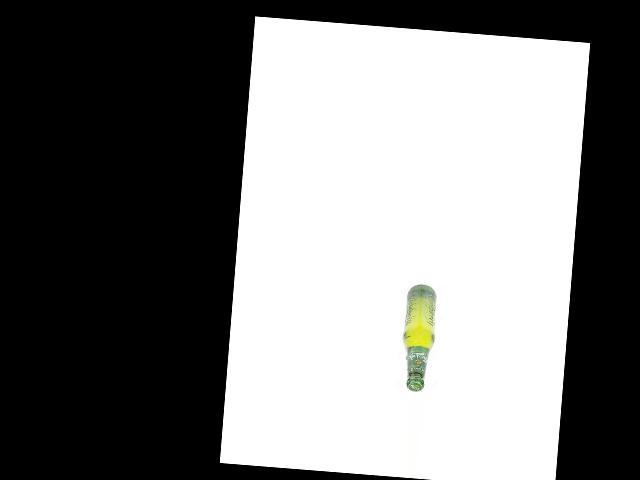beer: (398, 282, 439, 393)
